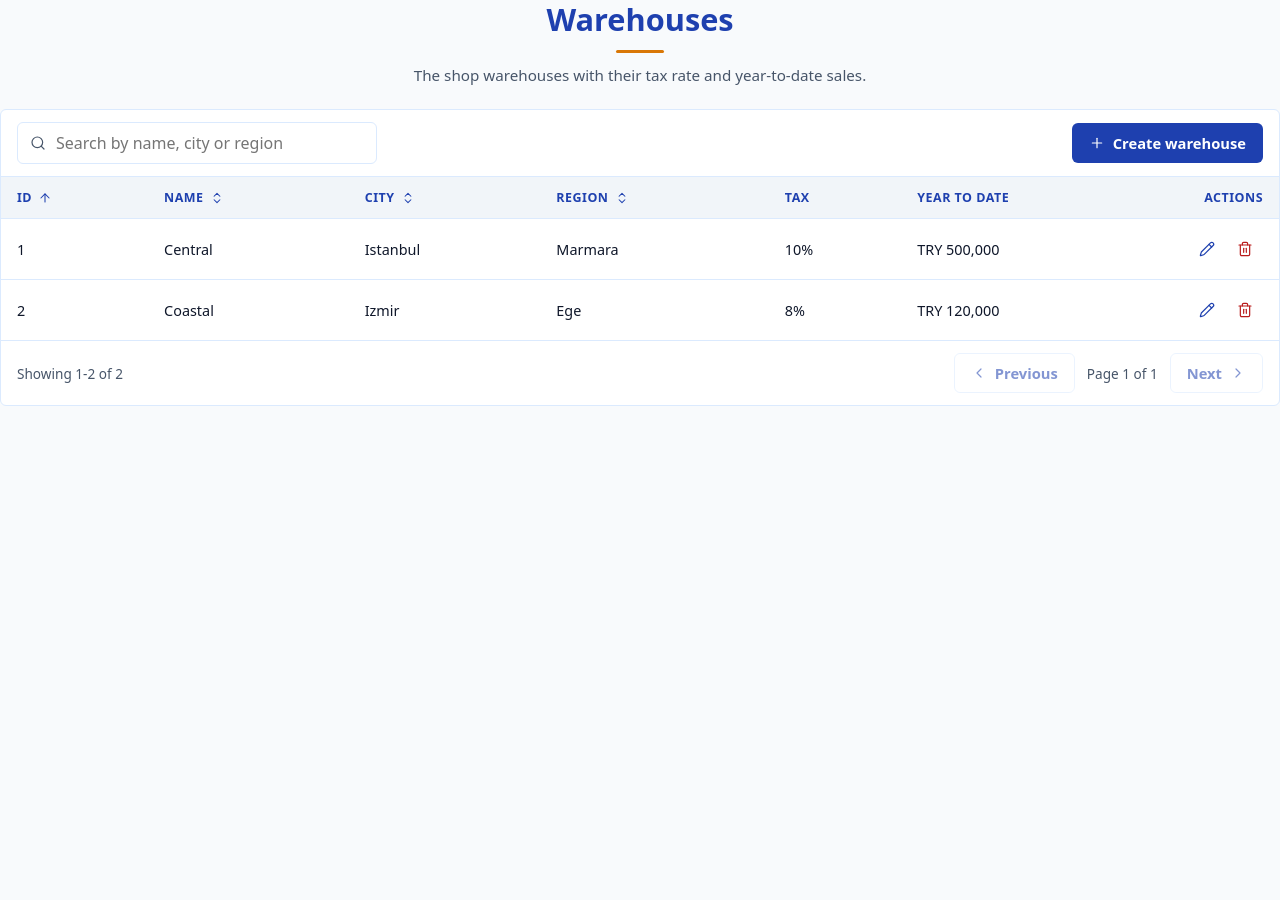
Scenario: deleting a warehouse that still has customers shows the clear conflict message
This screenshot has width=1280, height=900.
Click the button named "Delete warehouse" in the row of "Coastal". click: (1245, 310)
box: [1227,292,1263,328]
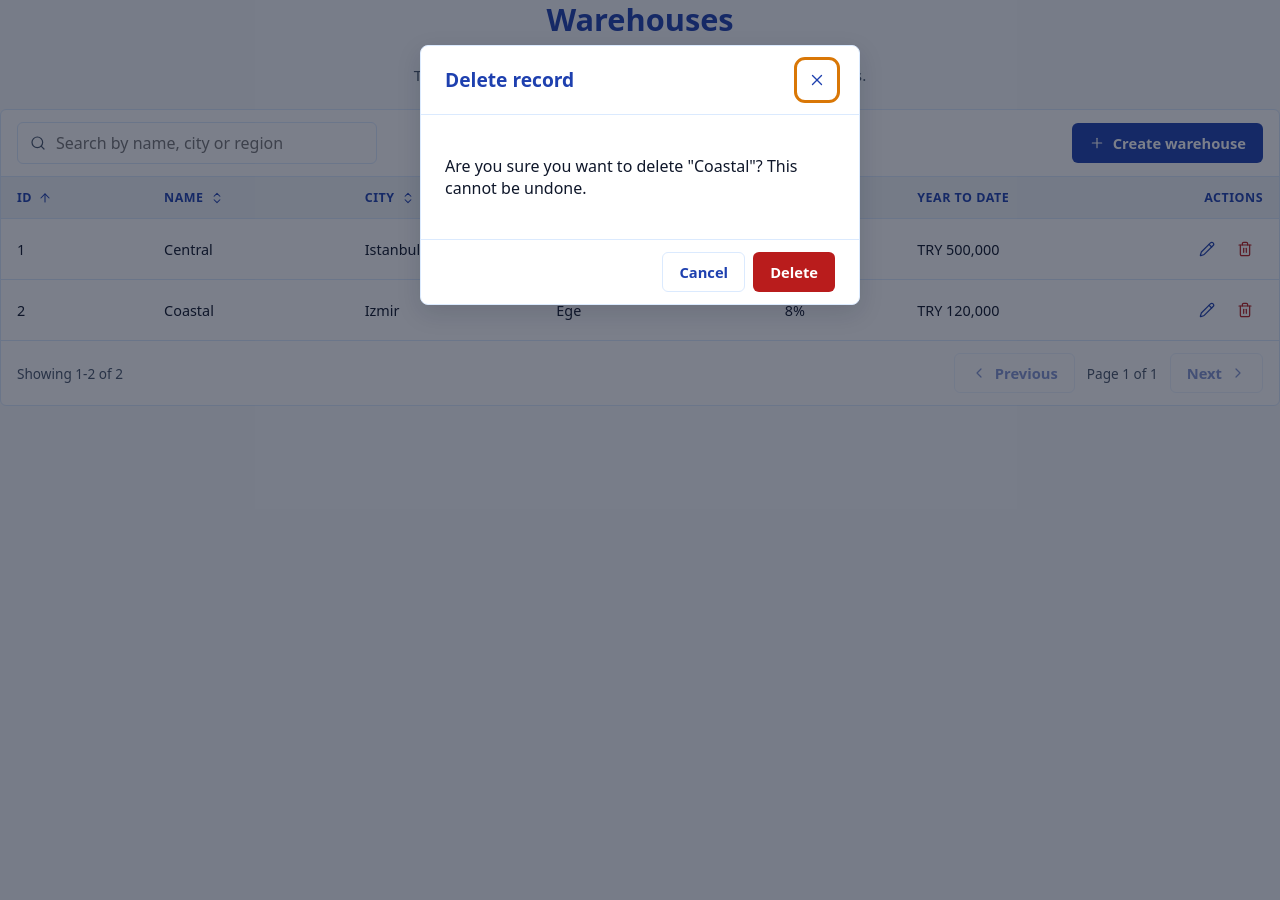
Click the button "Delete". click: (794, 272)
box: [753,252,835,292]
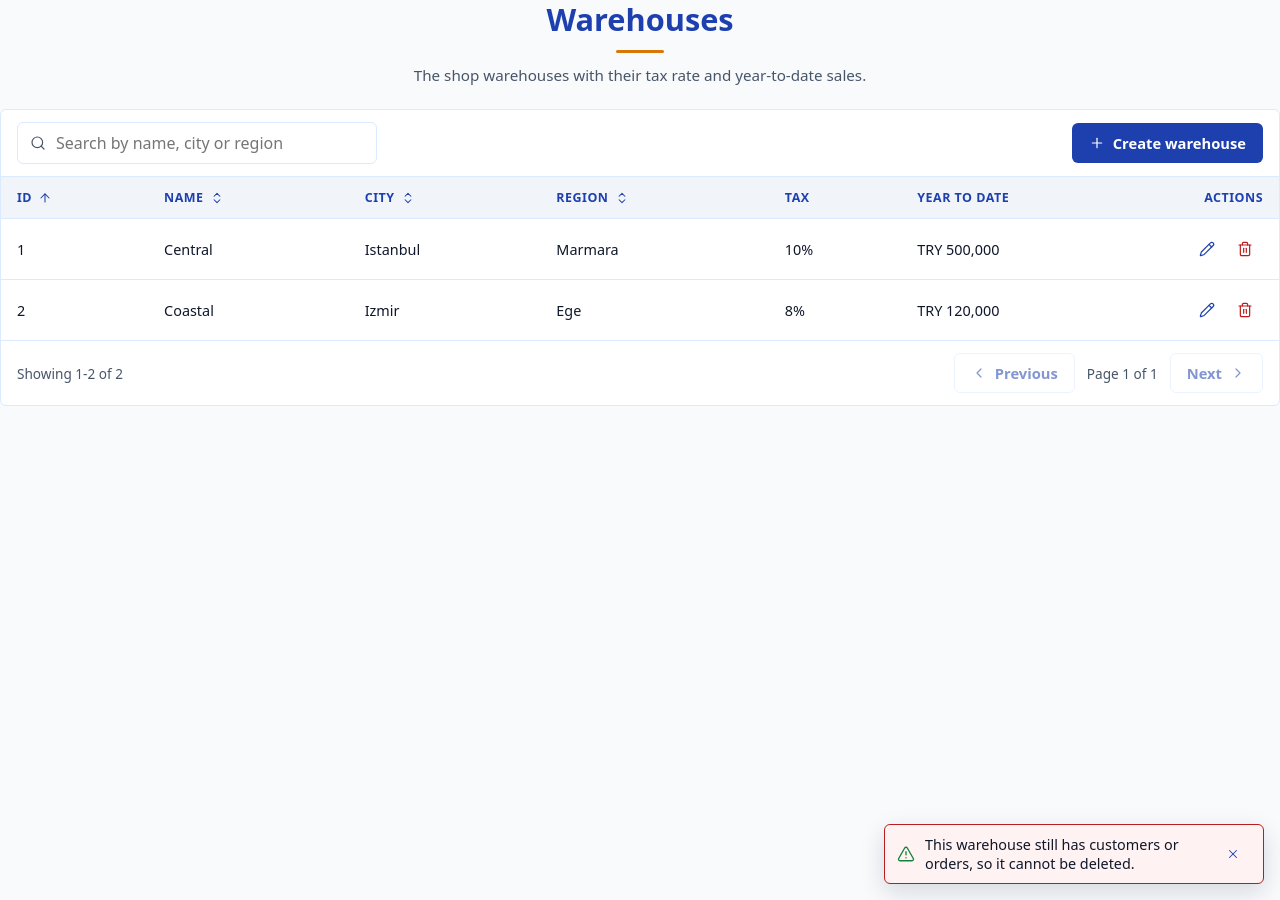
Check: the text "This warehouse still has customers or orders, so it cannot be deleted." is shown, box [925,835,1205,873]
Check: the heading "Delete record" is gone
